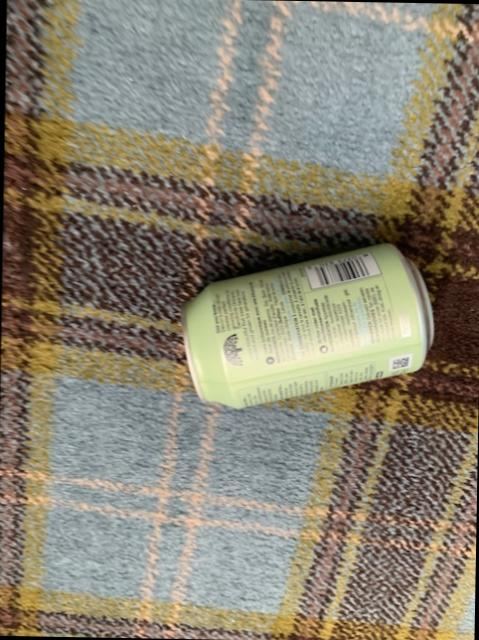metal: (183, 246, 433, 409)
